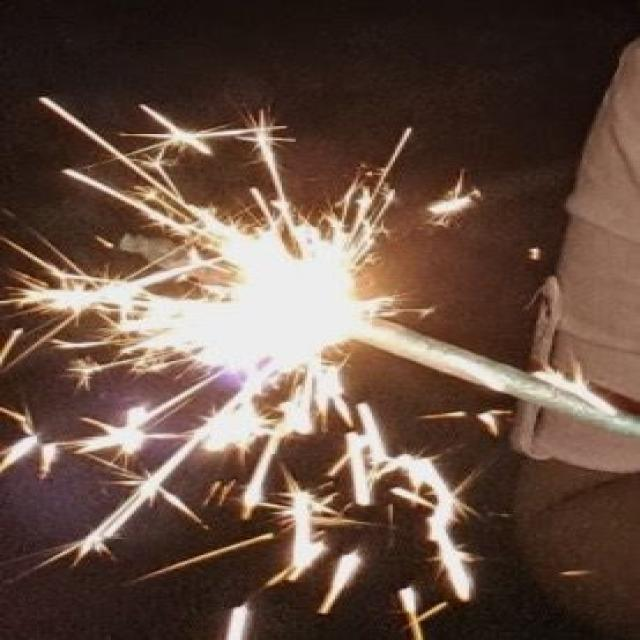fire: (120, 232, 392, 372)
